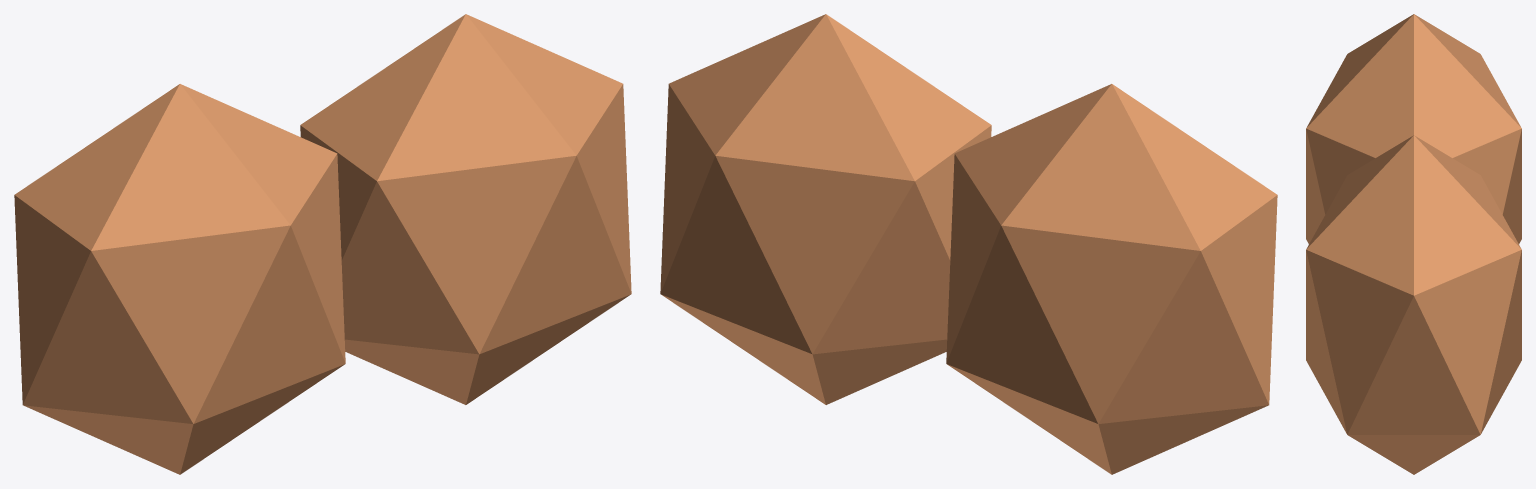
File: wk_soft_tissue_hip_v01.glb
3 renders of one model, left to right at view 1: azimuth 30°, elevation 25°; view 2: azimuth 150°, elevation 25°; view 3: azimuth 270°, elevation 25°, orthographic. The views are drawn at different scales.
Visible parts, largest first — view 1: GEO_SoftTissueHip-1, GEO_SoftTissueHip+1; view 2: GEO_SoftTissueHip-1, GEO_SoftTissueHip+1; view 3: GEO_SoftTissueHip+1, GEO_SoftTissueHip-1.
Part boxes in pixels (left/top/right/bottom): GEO_SoftTissueHip-1: left=14, top=84, right=345, bottom=474; GEO_SoftTissueHip+1: left=300, top=14, right=631, bottom=404; GEO_SoftTissueHip-1: left=946, top=84, right=1277, bottom=474; GEO_SoftTissueHip+1: left=660, top=14, right=991, bottom=404; GEO_SoftTissueHip+1: left=1306, top=135, right=1521, bottom=474; GEO_SoftTissueHip-1: left=1306, top=14, right=1521, bottom=243.
Bounding box in the file's own units: 0.5462 × 0.34 × 0.1956.
